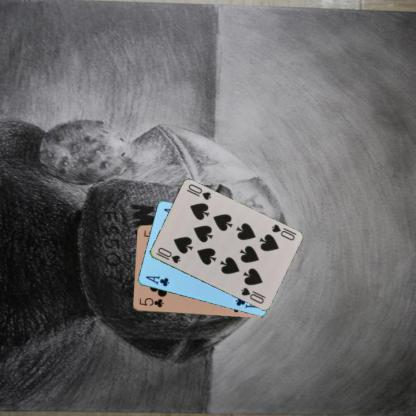10s: (268, 222, 296, 242), (155, 245, 181, 265)
5c: (137, 295, 165, 309)
Ac: (143, 273, 170, 288)
